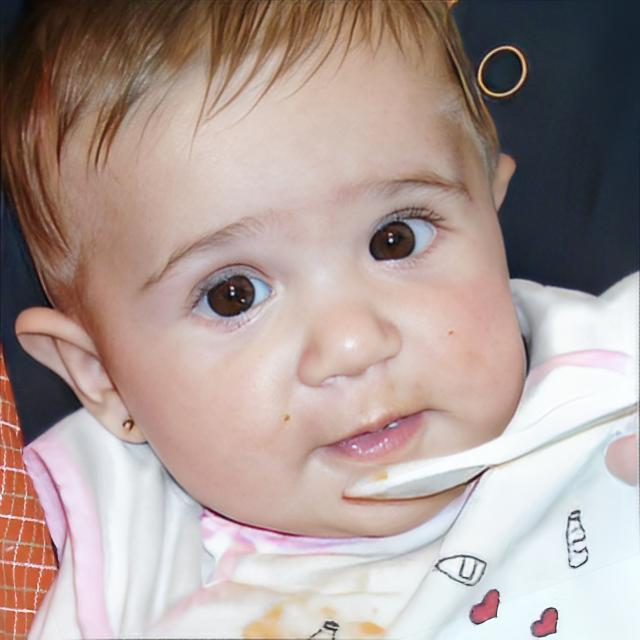surprise: (78, 14, 529, 544)
